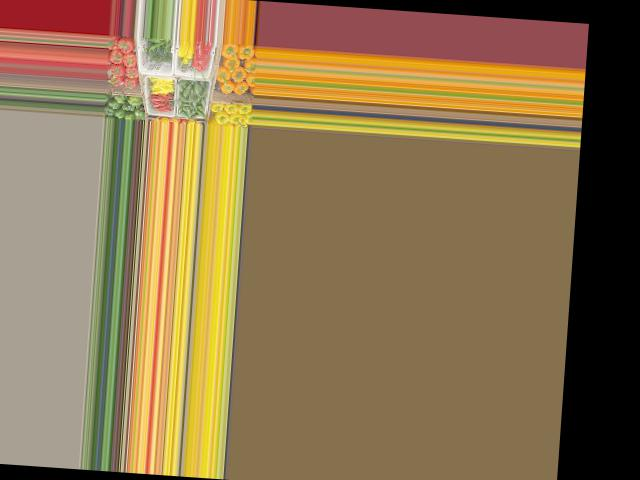bell_pepper: (112, 92, 127, 108)
